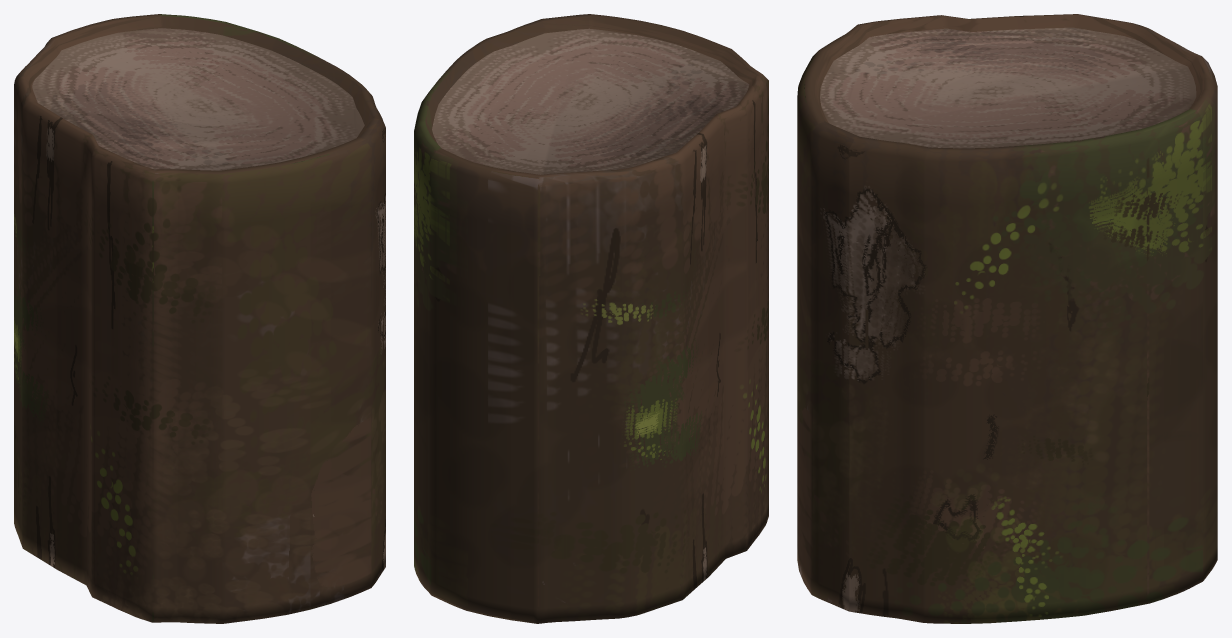
File: playerStand.fbx
3 renders of one model, left to right at view 1: azimuth 30°, elevation 25°; view 2: azimuth 150°, elevation 25°; view 3: azimuth 270°, elevation 25°, orthographic. The views are drawn at different scales.
Visible parts, largest first — view 1: GEmptyEnhancer; view 2: GEmptyEnhancer; view 3: GEmptyEnhancer.
Boxes of the visible parts, left/top/right/bottom form: GEmptyEnhancer: left=14, top=14, right=385, bottom=623; GEmptyEnhancer: left=414, top=14, right=768, bottom=623; GEmptyEnhancer: left=797, top=14, right=1217, bottom=623.
Bounding box in the file's own units: 105 × 162 × 131.
1 material, 1 textured.
